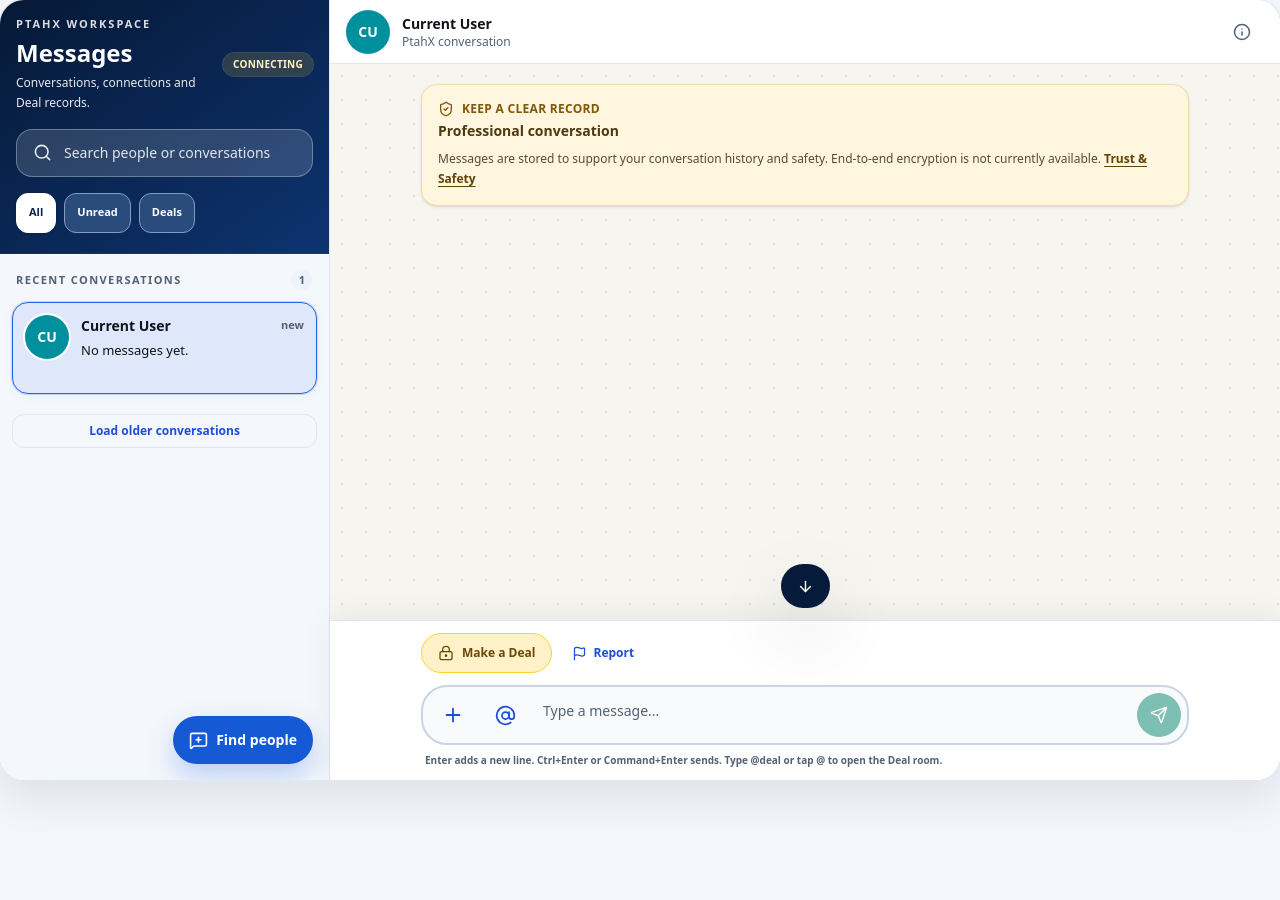
Test: message workspace exact targets › loads and deduplicates older conversations through the cursor endpoint
Click the button "Load older conversations".
click(164, 431)  # box [12,414,317,448]
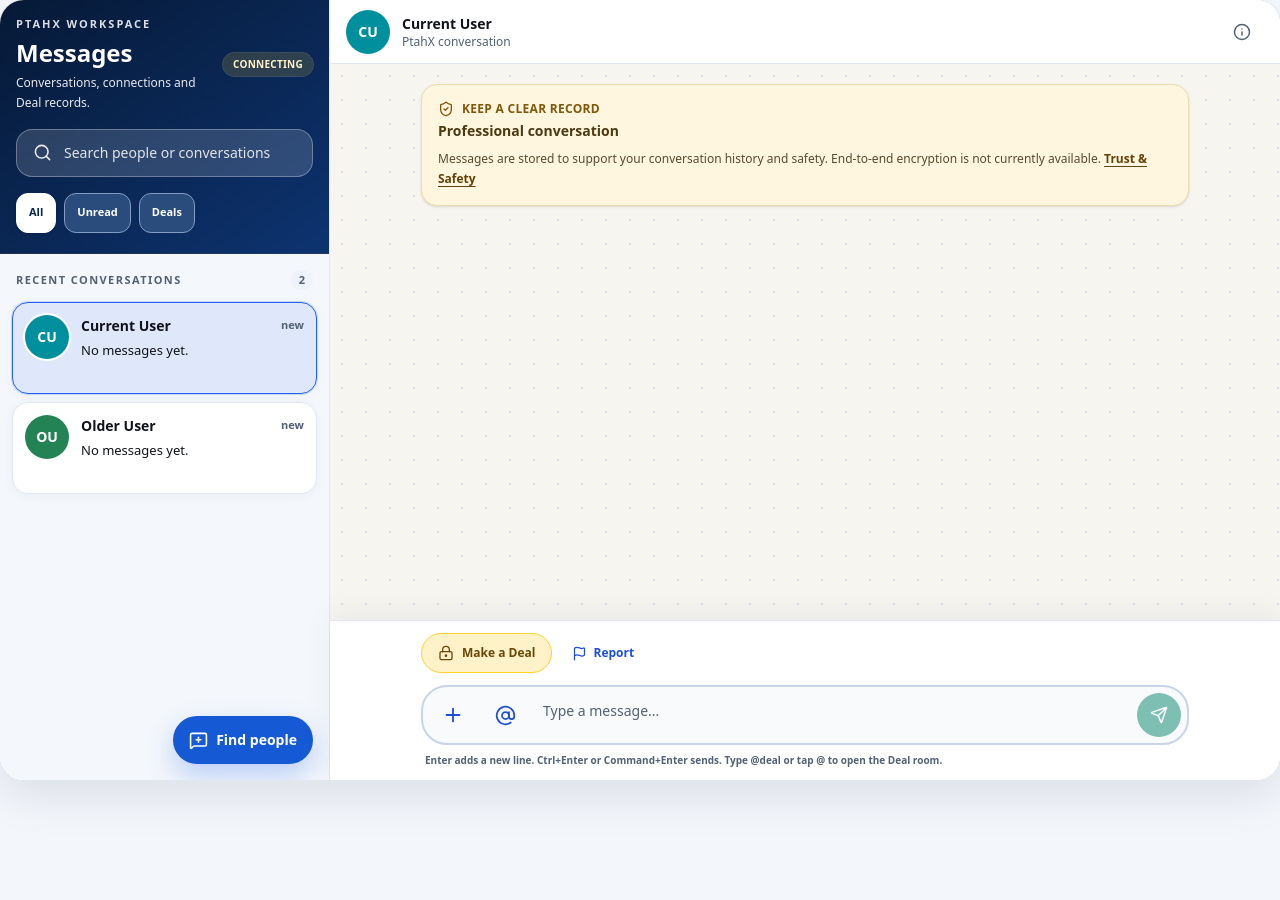
Expected: the text "Older User" is shown, [81,415,156,436]
Expected: the button "Load older conversations" is gone
